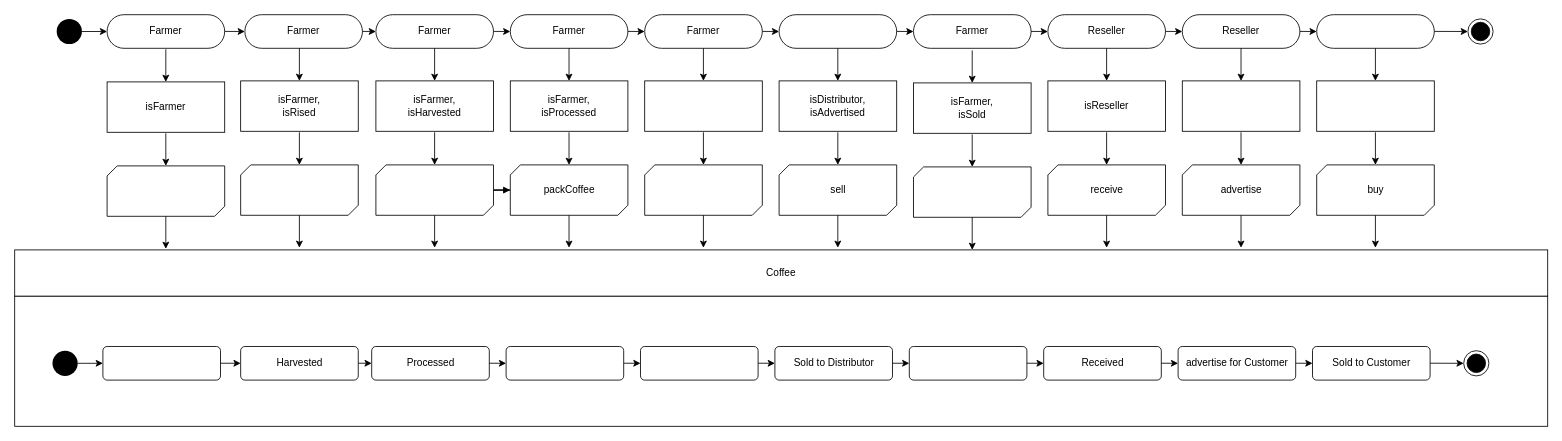
Some shapes in this 1562 by 441 pixel diagram are drawn without their labels. Here are the shapes that lost their labels. From the top down, the centre of each, then its label:
At point (837, 31): "Distributor".
At point (1375, 31): "Customer".
At point (703, 105): "isFarmer, isPacked".
At point (1240, 105): "isReseller, isReceived".
At point (1375, 105): "isCustomer".
At point (165, 190): "raiseCoffee".
At point (299, 189): "HarvestCoffiee".
At point (434, 189): "processCoffee".
At point (703, 189): "advertiseCoffee".
At point (972, 191): "ship".
At point (161, 363): "Raised".
At point (564, 363): "Packed".
At point (699, 363): "adverteised for Distributor".
At point (967, 363): "Shipped".
